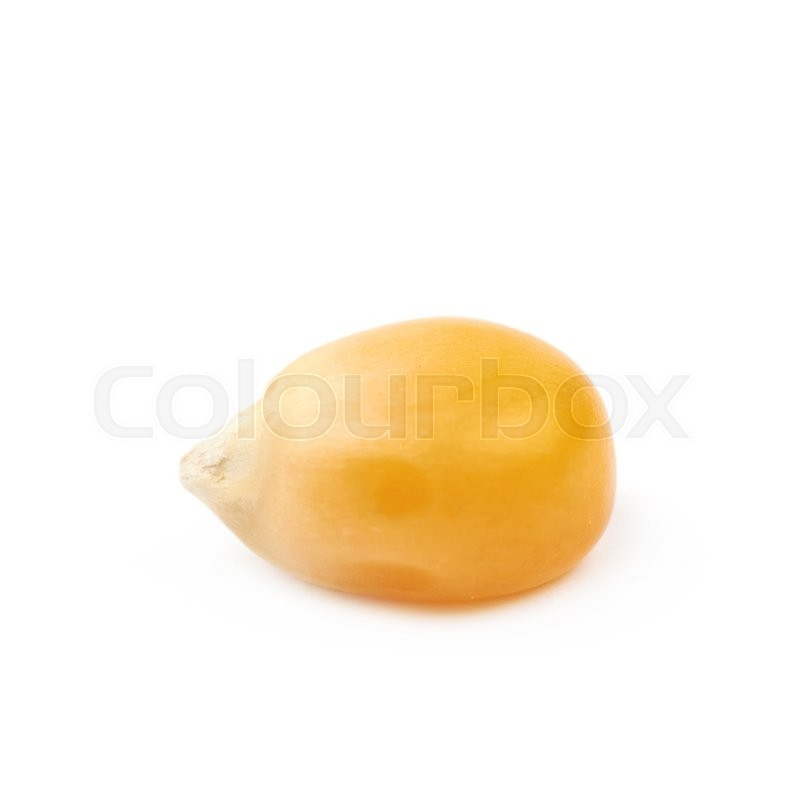corn: (182, 314, 619, 607)
